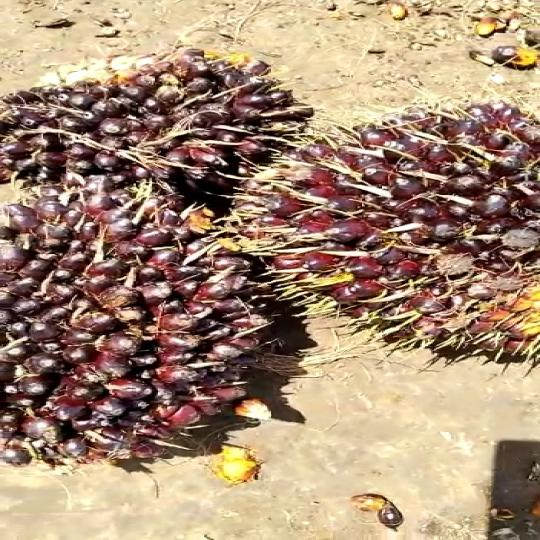mentah: (0, 182, 319, 468), (215, 109, 540, 357), (0, 36, 320, 211)
